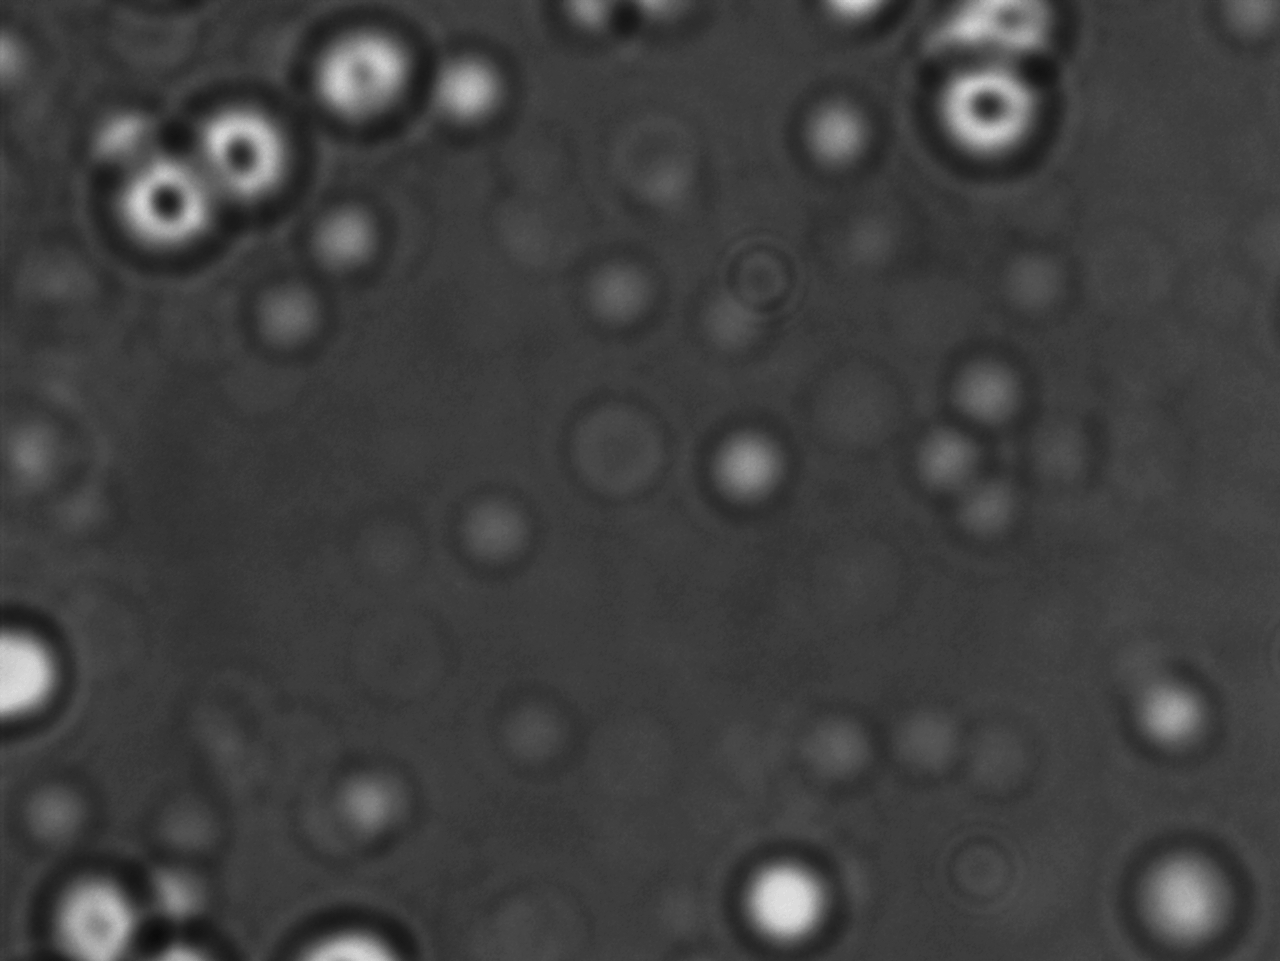depth:32: (98, 140, 220, 279), (179, 96, 308, 216), (922, 50, 1053, 169)
